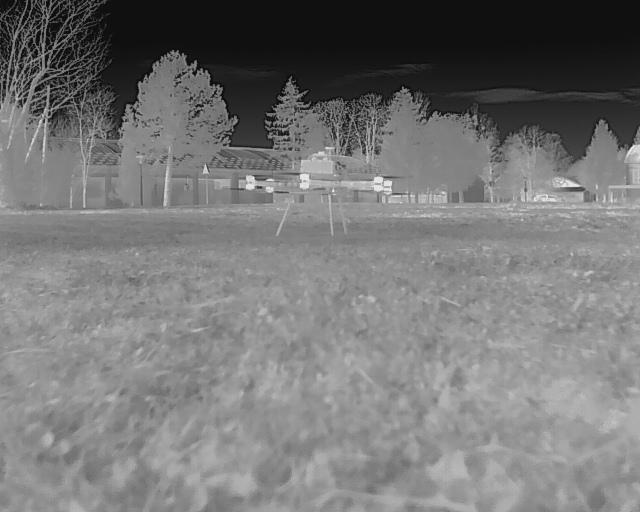drone: (238, 152, 394, 242)
